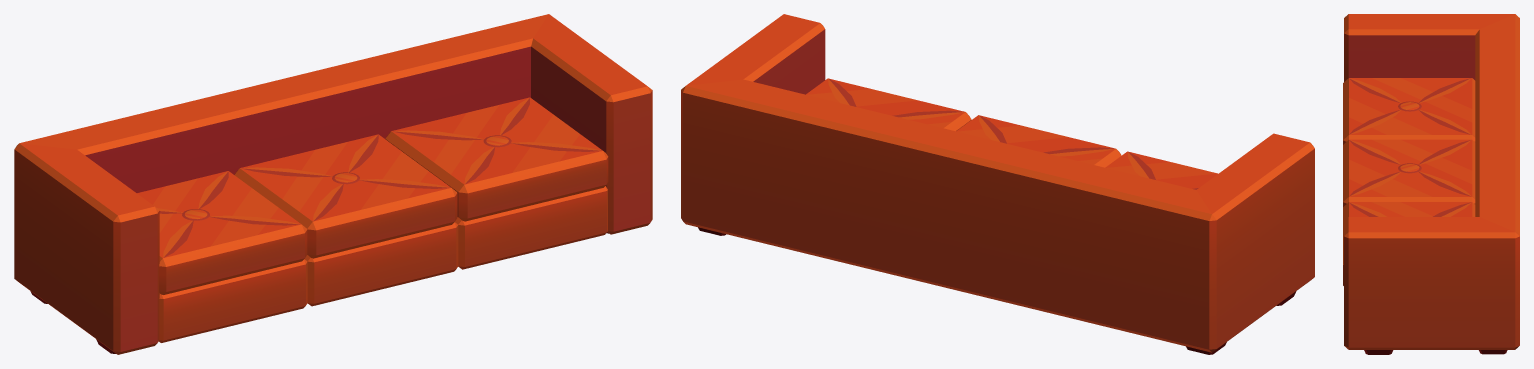
File: sofa_b.fbx
3 renders of one model, left to right at view 1: azimuth 30°, elevation 25°; view 2: azimuth 150°, elevation 25°; view 3: azimuth 270°, elevation 25°, orthographic. The views are drawn at different scales.
Visible parts, largest first — view 1: furniture_long; view 2: furniture_long; view 3: furniture_long.
Part boxes in pixels (x1,y1,x2,y2): furniture_long: [14, 14, 652, 354]; furniture_long: [681, 14, 1314, 354]; furniture_long: [1343, 14, 1519, 354].
Bounding box in the file's own units: 274 × 71.84 × 92.33.
